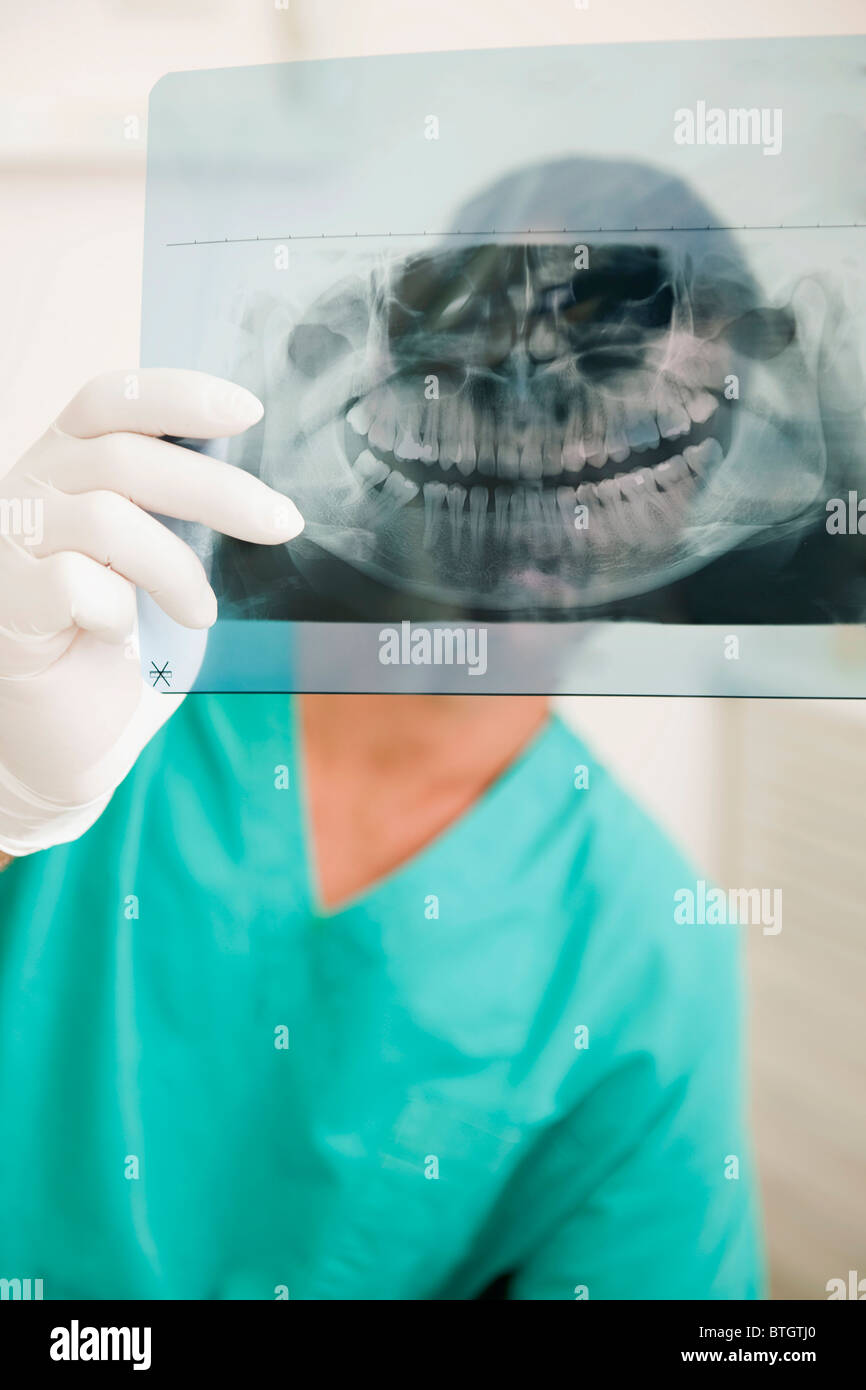canine: (560, 396, 587, 474), (556, 481, 584, 549), (456, 395, 478, 479), (467, 483, 492, 550)
incisor: (541, 397, 567, 479), (496, 402, 520, 480), (521, 407, 545, 484), (478, 403, 498, 475), (493, 480, 513, 545), (542, 485, 561, 549), (511, 480, 528, 551), (526, 486, 543, 550)
molar: (680, 431, 737, 499), (613, 463, 667, 530), (338, 448, 393, 509), (619, 384, 664, 454), (651, 449, 694, 515), (653, 379, 694, 443), (379, 468, 422, 524), (676, 376, 724, 426), (344, 387, 388, 441), (370, 393, 406, 452), (395, 402, 425, 466)
premolar: (576, 383, 610, 472), (420, 476, 451, 551), (575, 476, 606, 547), (604, 391, 631, 468), (445, 479, 470, 562), (438, 396, 465, 471), (597, 476, 626, 543), (420, 387, 442, 467)
